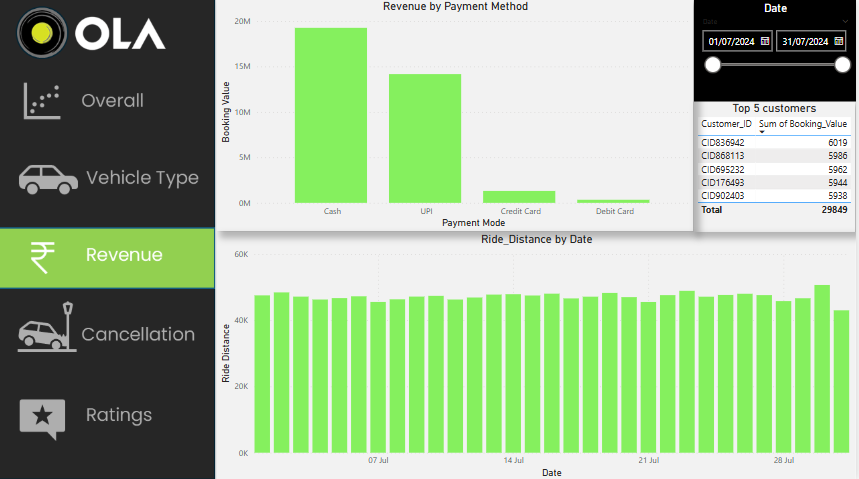

This screenshot's page, from the dashboard's own definition file:
{"tool":"powerbi","page":{"name":"Revenue","canvas":[1280,720],"ordinal":2},"visuals":[{"type":"actionButton","box":[0,447.8,325.4,92.2],"z":0},{"type":"actionButton","box":[0,106.6,325.4,92.2],"z":1000},{"type":"actionButton","box":[0,576,325.4,92.2],"z":2000},{"type":"actionButton","box":[0,221.8,325.4,92.2],"z":3000},{"type":"tableEx","title":"Top 5 customers","fields":{"Values":["July.Customer_ID","Sum(July.Booking_Value)"]},"box":[1036.7,152.7,239.9,194.6],"z":4000},{"type":"columnChart","title":"Revenue by Payment Method","fields":{"Y":["Sum(July.Booking_Value)"],"Category":["July.Payment_Method"]},"box":[325.5,0,711.3,347.3],"z":5000},{"type":"columnChart","title":"Ride_Distance by Date","fields":{"Y":["Sum(July.Ride_Distance)"],"Category":["July.Date"]},"box":[325.5,347.3,954.5,372.4],"z":6000},{"type":"slicer","title":"Date","fields":{"Values":["July.Date"]},"box":[1036.7,0,243.3,152.7],"z":7000}]}

Visuals, with their boxes on the page's 1280x720 design canvas (x1, y1, x2, y2). These are canvas units, not pixel positions in the 859x479 screenshot, which may show the page scaled, cropped or inside an application window:
actionButton: (0,448,325,540)
actionButton: (0,107,325,199)
actionButton: (0,576,325,668)
actionButton: (0,222,325,314)
"Top 5 customers" tableEx: (1037,153,1277,347)
"Revenue by Payment Method" columnChart: (326,0,1037,347)
"Ride_Distance by Date" columnChart: (326,347,1280,720)
"Date" slicer: (1037,0,1280,153)
